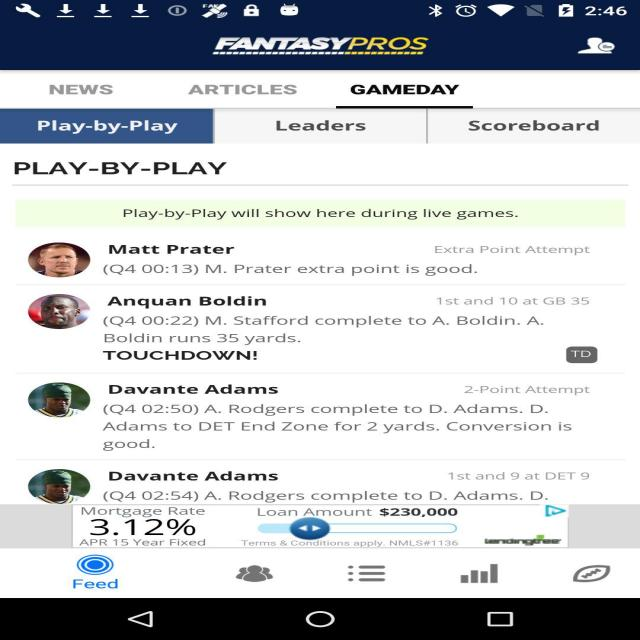button: (2, 550, 165, 598), (0, 108, 210, 142), (170, 552, 298, 598), (301, 553, 427, 599), (428, 548, 534, 598), (534, 552, 640, 591)
icon: (50, 553, 159, 598), (210, 553, 295, 593), (556, 555, 640, 592), (327, 560, 420, 592), (556, 32, 640, 65), (452, 557, 516, 593)
image: (3, 505, 640, 551), (0, 24, 631, 67), (26, 293, 86, 328), (24, 244, 88, 276), (30, 389, 82, 415), (32, 471, 78, 498)
text: (98, 294, 611, 368), (98, 382, 611, 454), (102, 466, 600, 506), (103, 244, 596, 278), (115, 206, 520, 226), (210, 28, 438, 61), (7, 156, 230, 179), (28, 115, 191, 138), (177, 76, 305, 105), (461, 116, 604, 137), (337, 79, 467, 101), (31, 83, 146, 103), (266, 114, 386, 133)
